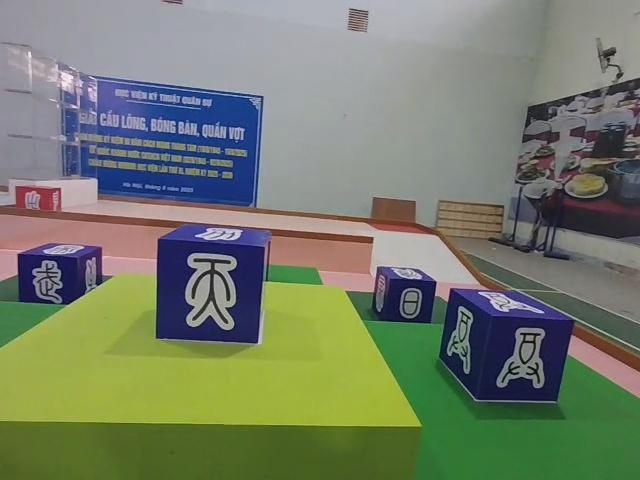R2 Fake Blue: (156, 223, 272, 346), (19, 243, 106, 307), (373, 265, 438, 323)
R2 Real Blue: (439, 289, 572, 405)
